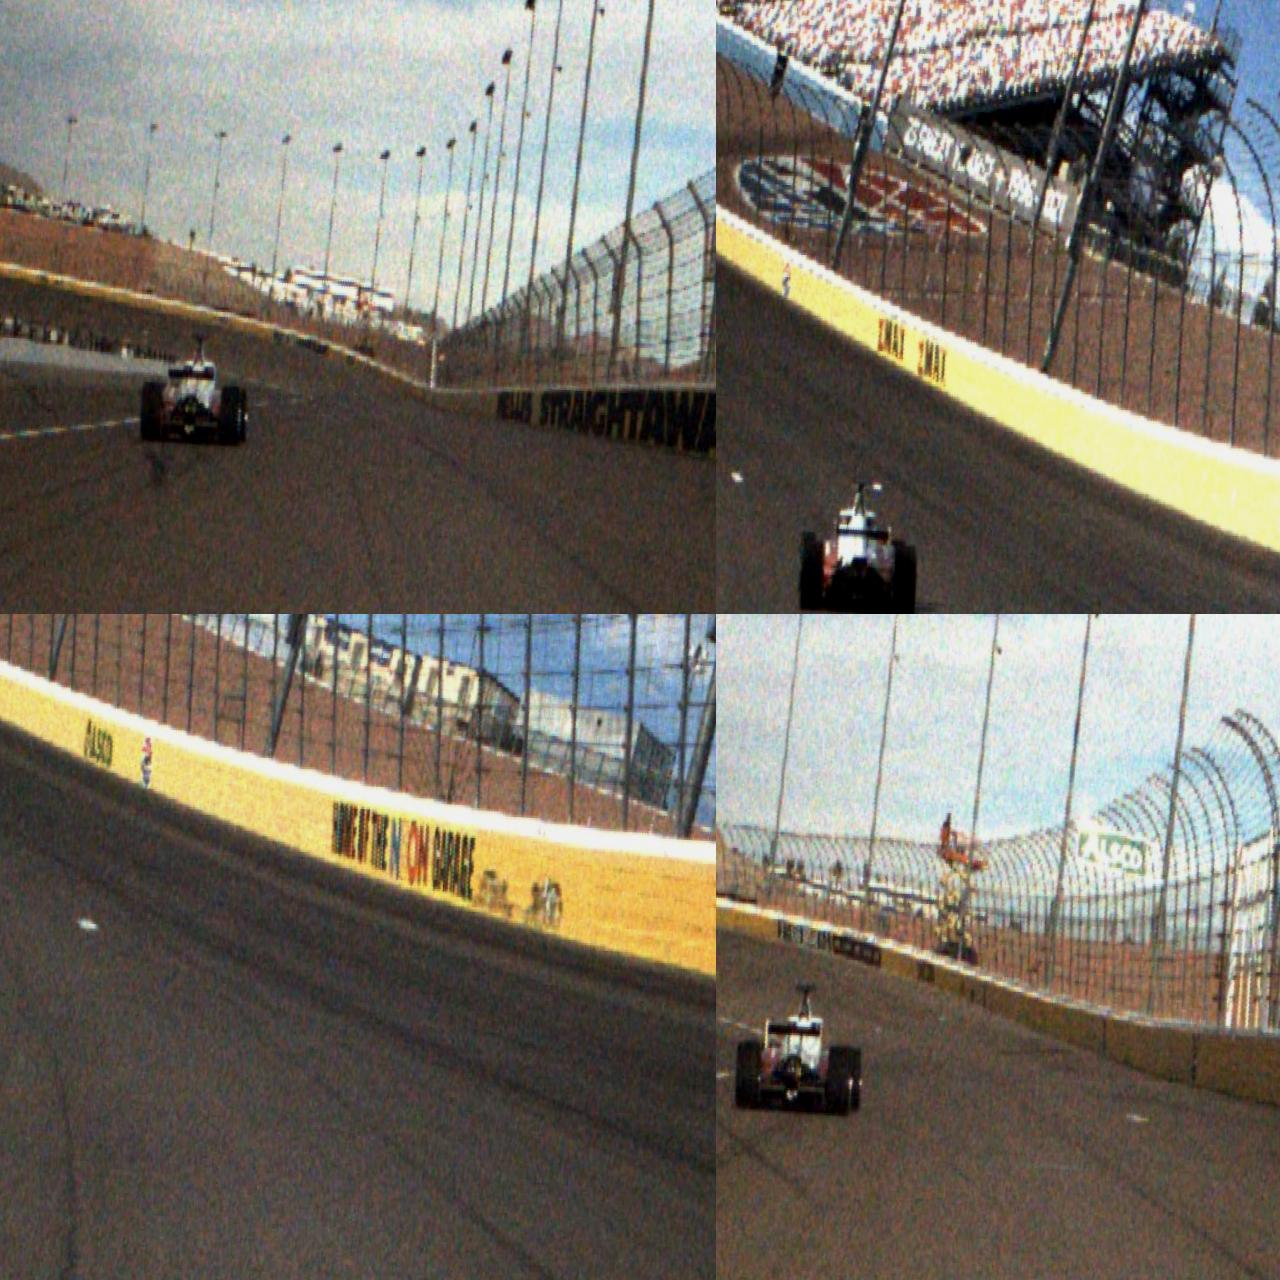AV: (734, 980, 867, 1116), (797, 479, 920, 614), (138, 331, 252, 447)
Wheel: (825, 1046, 853, 1115), (798, 540, 824, 612), (735, 1040, 761, 1110), (892, 543, 917, 614), (138, 381, 165, 442), (218, 384, 241, 447), (843, 1049, 864, 1111)
